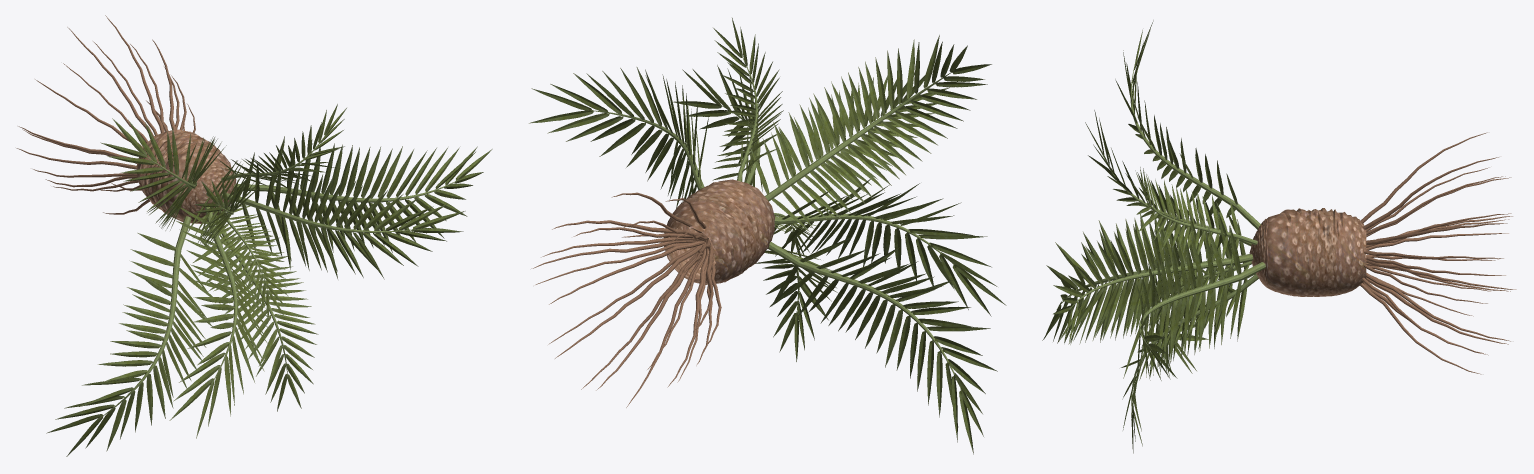
3 views of the same model, side by side, from view 1: azimuth 30°, elevation 25°; view 2: azimuth 150°, elevation 25°; view 3: azimuth 270°, elevation 25° (orthographic). The views are drawn at different scales.
Visible parts, largest first — view 1: PR09y; view 2: PR09y; view 3: PR09y.
Boxes of the visible parts, bbox=[...] form: PR09y: bbox=[16, 15, 492, 456]; PR09y: bbox=[529, 18, 1006, 454]; PR09y: bbox=[1042, 20, 1516, 453].
Bounding box in the file's own units: 18.08 × 14.11 × 16.45.
4 materials, 4 textured.
